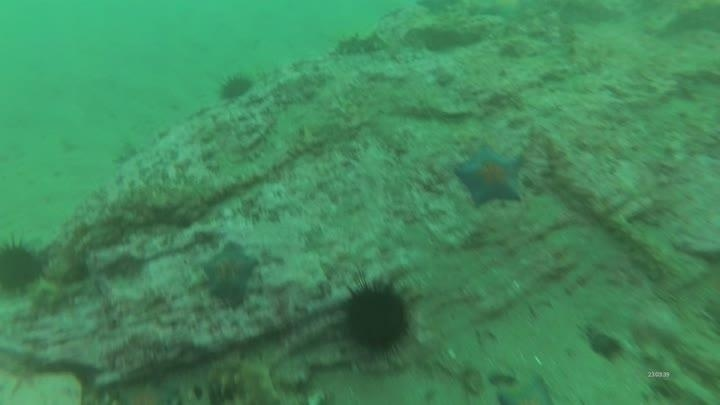echinus: (336, 275, 416, 363), (0, 234, 50, 298), (216, 71, 255, 104)
holothurian: (169, 354, 284, 405), (329, 29, 391, 59)
starfish: (453, 144, 528, 210), (198, 241, 261, 306), (106, 377, 181, 404), (497, 372, 556, 404)
